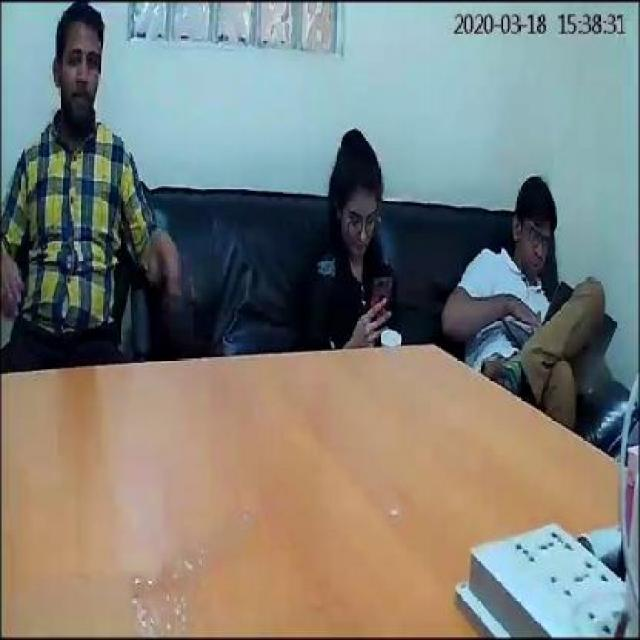spill: (14, 502, 260, 636)
